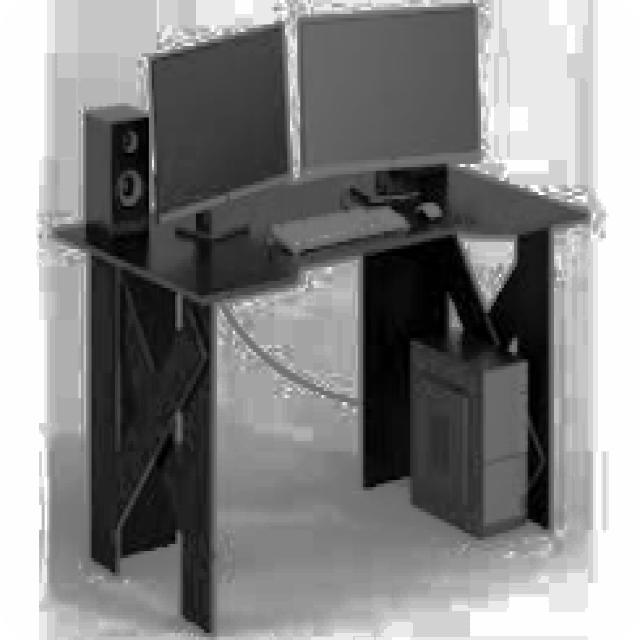table: (52, 160, 588, 633)
